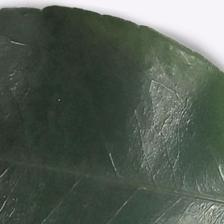healthy: (0, 11, 212, 224)
